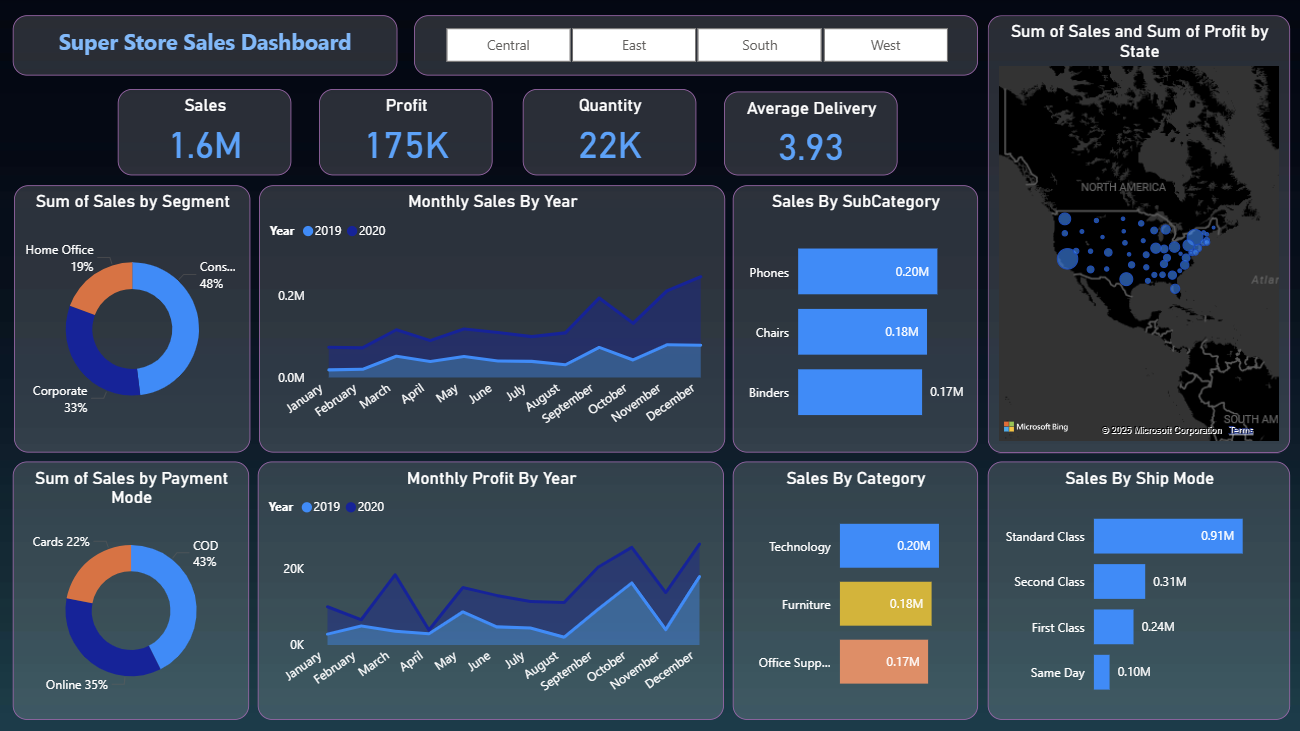

What the dashboard file says about the page in this screenshot:
{"tool":"powerbi","page":{"name":"Dashboard","canvas":[1280,720],"ordinal":0},"visuals":[{"type":"clusteredBarChart","title":"Sales By SubCategory","fields":{"Category":["SuperStore_Sales_Dataset.Sub-Category"],"Y":["Sum(SuperStore_Sales_Dataset.Sales)"]},"box":[720.2,182.8,240.5,262.6],"z":0},{"type":"clusteredBarChart","title":"Sales By Ship Mode","fields":{"Category":["SuperStore_Sales_Dataset.Ship Mode"],"Y":["Sum(SuperStore_Sales_Dataset.Sales)"]},"box":[970.6,454,296.9,254],"z":1000},{"type":"stackedAreaChart","title":"Monthly Sales By Year","fields":{"Y":["Sum(SuperStore_Sales_Dataset.Sales)"],"Category":["SuperStore_Sales_Dataset.Order Date.Variation.Date Hierarchy.Month","SuperStore_Sales_Dataset.Order Date.Variation.Date Hierarchy.Day"],"Series":["SuperStore_Sales_Dataset.Order Date.Variation.Date Hierarchy.Year"]},"box":[255.2,182.8,457.7,262.6],"z":2000},{"type":"stackedAreaChart","title":"Monthly Profit By Year","fields":{"Category":["SuperStore_Sales_Dataset.Order Date.Variation.Date Hierarchy.Month","SuperStore_Sales_Dataset.Order Date.Variation.Date Hierarchy.Day"],"Series":["SuperStore_Sales_Dataset.Order Date.Variation.Date Hierarchy.Year"],"Y":["Sum(SuperStore_Sales_Dataset.Profit)"]},"box":[254,454,457.7,254],"z":3000},{"type":"map","fields":{"Category":["SuperStore_Sales_Dataset.State"],"Size":["Sum(SuperStore_Sales_Dataset.Sales)"]},"box":[970.6,16,296.9,429.5],"z":4000},{"type":"clusteredBarChart","title":"Sales By Category","fields":{"Category":["SuperStore_Sales_Dataset.Category"],"Y":["Sum(SuperStore_Sales_Dataset.Sales)"]},"box":[720.2,454,240.5,254],"z":5000},{"type":"donutChart","fields":{"Category":["SuperStore_Sales_Dataset.Segment"],"Y":["Sum(SuperStore_Sales_Dataset.Sales)"]},"box":[14.7,182.8,231.9,262.6],"z":6000},{"type":"donutChart","fields":{"Category":["SuperStore_Sales_Dataset.Payment Mode"],"Y":["Sum(SuperStore_Sales_Dataset.Sales)"]},"box":[13.5,454,231.9,254],"z":7000},{"type":"slicer","fields":{"Values":["SuperStore_Sales_Dataset.Region"]},"box":[407.4,16,553.4,58.9],"z":8000},{"type":"textbox","box":[13.5,16,377.9,58.9],"z":9000},{"type":"card","title":"Sales","fields":{"Values":["Sum(SuperStore_Sales_Dataset.Sales)"]},"box":[116.6,88.3,170.6,84.7],"z":10000},{"type":"card","title":"Profit","fields":{"Values":["Sum(SuperStore_Sales_Dataset.Profit)"]},"box":[314.1,88.3,170.6,84.7],"z":11000},{"type":"card","title":"Quantity","fields":{"Values":["Sum(SuperStore_Sales_Dataset.Quantity)"]},"box":[514.1,88.3,170.6,84.7],"z":12000},{"type":"card","title":"Average Delivery","fields":{"Values":["Avg(SuperStore_Sales_Dataset.Average Delivery)"]},"box":[711.7,90.8,170.6,82.2],"z":13000}]}

Visuals, with their boxes in screenshot pixels (x1, y1, x2, y2), scaled from the page's 1280x720 canvas onto the 1300x731 screenshot:
"Sales By SubCategory" clusteredBarChart: region(731, 186, 976, 452)
"Sales By Ship Mode" clusteredBarChart: region(986, 461, 1287, 719)
"Monthly Sales By Year" stackedAreaChart: region(259, 186, 724, 452)
"Monthly Profit By Year" stackedAreaChart: region(258, 461, 723, 719)
map - SuperStore_Sales_Dataset.State x Sum(SuperStore_Sales_Dataset.Sales): region(986, 16, 1287, 452)
"Sales By Category" clusteredBarChart: region(731, 461, 976, 719)
donutChart - SuperStore_Sales_Dataset.Segment x Sum(SuperStore_Sales_Dataset.Sales): region(15, 186, 250, 452)
donutChart - SuperStore_Sales_Dataset.Payment Mode x Sum(SuperStore_Sales_Dataset.Sales): region(14, 461, 249, 719)
slicer - SuperStore_Sales_Dataset.Region: region(414, 16, 976, 76)
textbox: region(14, 16, 398, 76)
"Sales" card: region(118, 90, 292, 176)
"Profit" card: region(319, 90, 492, 176)
"Quantity" card: region(522, 90, 695, 176)
"Average Delivery" card: region(723, 92, 896, 176)
